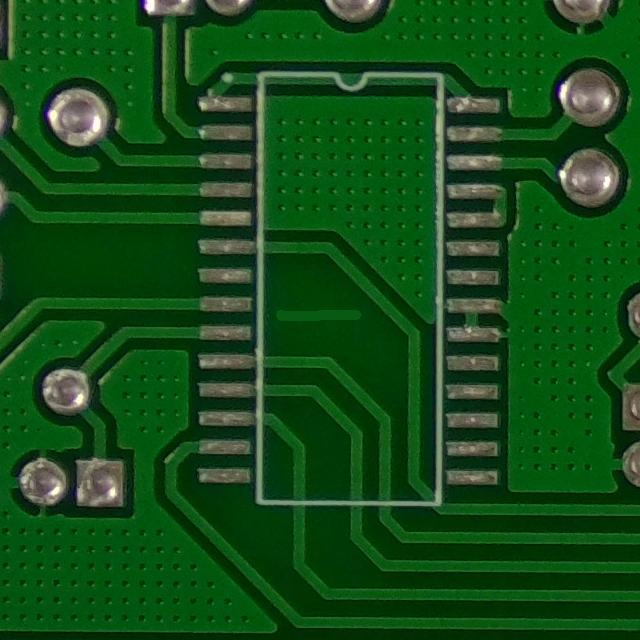spurious_copper: (270, 287, 371, 354)
